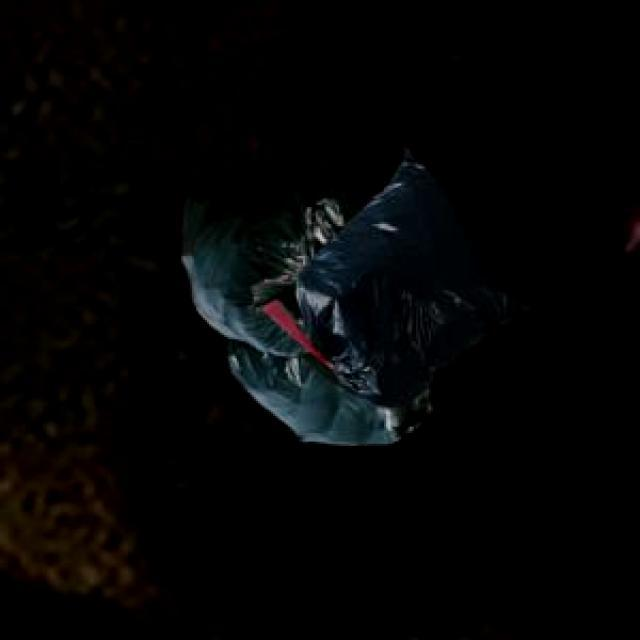Trashbag: (313, 160, 502, 378), (186, 199, 330, 360), (222, 346, 426, 453)
